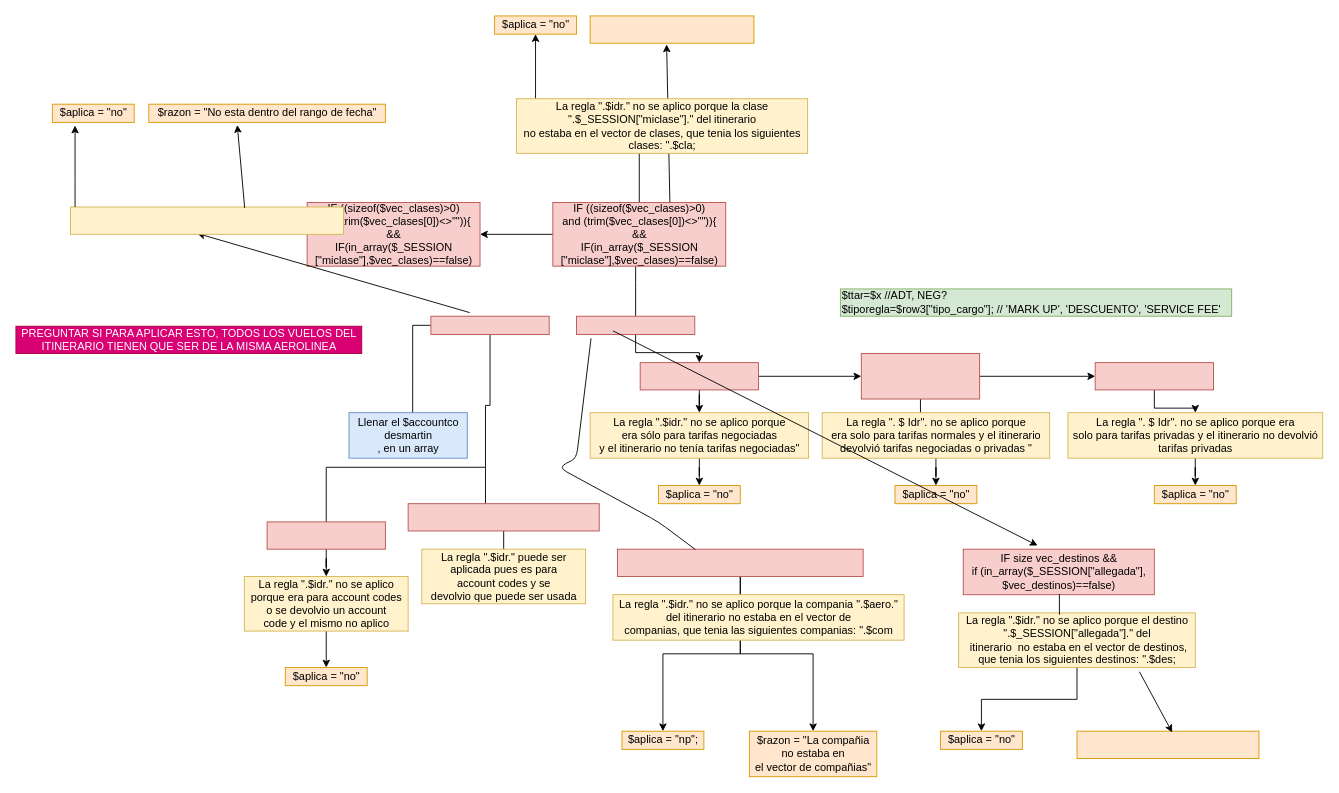
Some shapes in this 1339 by 793 pixel diagram are drawn without their labels. Each missing label, with the box of its shape:
$razon = "El destino no estaba en el vector de destinos": (1076, 730, 1259, 758)
$razon = "La clase no estaba en el vector de clases": (589, 15, 754, 43)
if ($_SESSION["regla_de_ account_code"]==$row3["eidregla"]): (407, 503, 599, 531)
if (($ espriv <> "true") y ($ tiporeg == "3")) {: (1094, 362, 1213, 390)
if (($ttar<>"NEG") and ($tiporeg=="1")){: (639, 362, 758, 390)
if ((($ttar=="NEG") or ($espriv=="true")) and ($tiporeg=="0")){: (860, 353, 980, 399)
IF sizeof vec_companias && if (in_array($aero, $vec_companias)==false) {: (617, 548, 863, 576)
NO ACCOUNT CODE: (576, 315, 695, 334)
SI ACCOUNT CODE: (430, 315, 549, 334)
Si fri_corporateid == '' (viene del xml): (266, 521, 385, 549)
SI LA FECHA DE SALIDA Y LA FECHA DE LLEGADA ESTAN DENTRO DEL RANGO DE LA REGLA: (70, 206, 344, 234)
